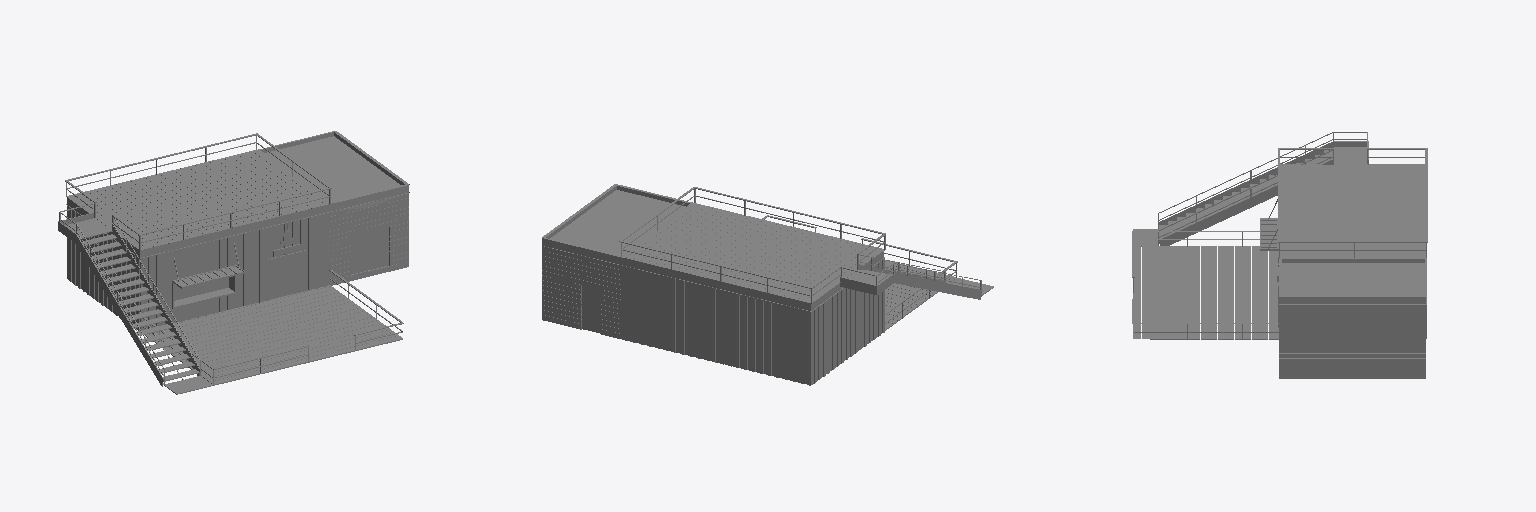
File: coffe_shop.obj
3 renders of one model, left to right at view 1: azimuth 30°, elevation 25°; view 2: azimuth 150°, elevation 25°; view 3: azimuth 270°, elevation 25°, orthographic.
Visible parts, largest first — view 1: Cafe_con_sillon; view 2: Cafe_con_sillon; view 3: Cafe_con_sillon.
Boxes of the visible parts, x1=… form: Cafe_con_sillon: x1=58, y1=131, x2=409, y2=394; Cafe_con_sillon: x1=542, y1=184, x2=993, y2=385; Cafe_con_sillon: x1=1132, y1=132, x2=1427, y2=378.
Bounding box in the file's own units: 179 × 56.03 × 149.